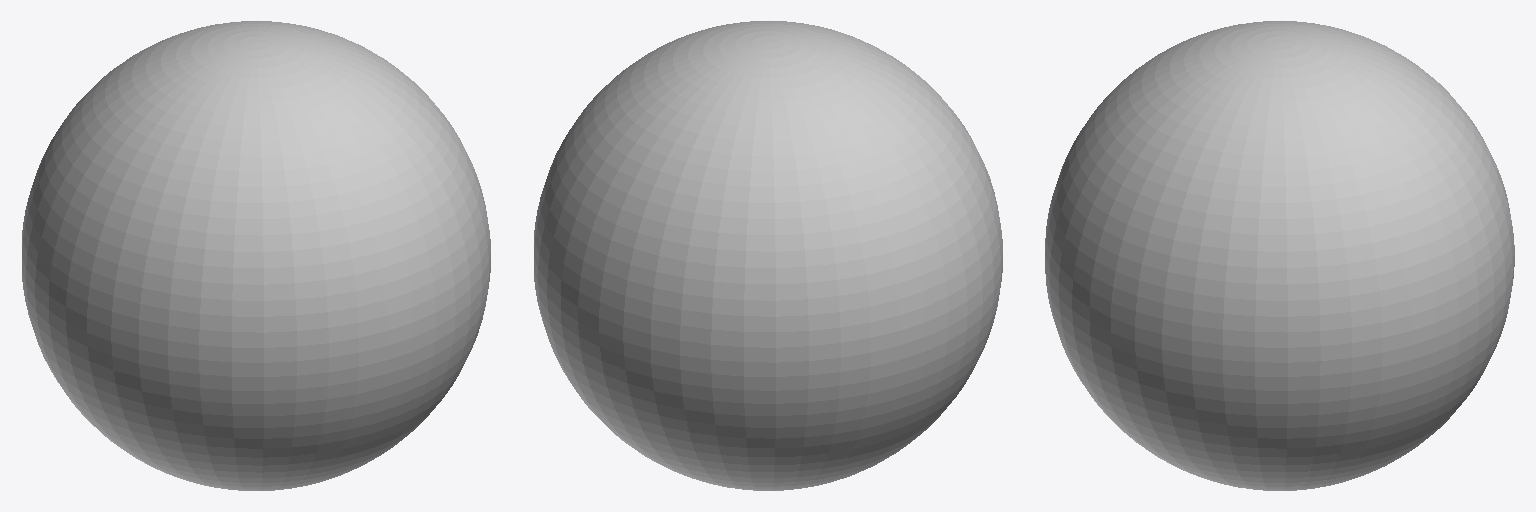
File: high_res_sphere.obj
3 views of the same model, side by side, from view 1: azimuth 30°, elevation 25°; view 2: azimuth 150°, elevation 25°; view 3: azimuth 270°, elevation 25° (orthographic).
Parts seen in each view (by area): view 1: Sphere; view 2: Sphere; view 3: Sphere.
Part boxes in pixels (x1,y1,x2,y2): Sphere: (22,21,490,490); Sphere: (534,21,1002,490); Sphere: (1045,21,1514,490).
Bounding box in the file's own units: 2 × 2 × 2.